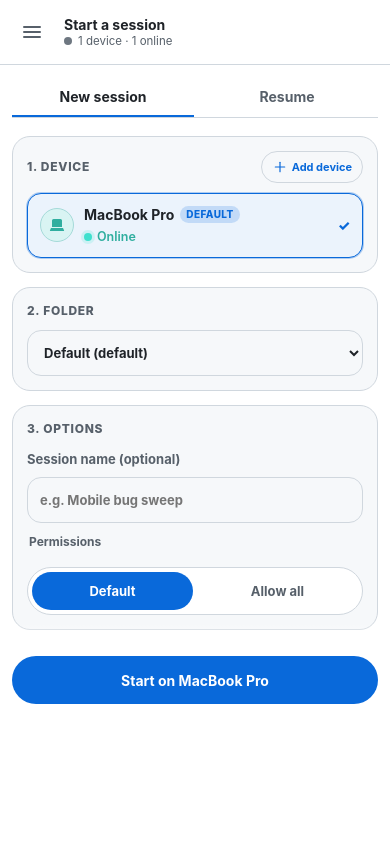
StartSessionScreen — new and resume are two shapes of one flow › opens on New, and swaps only the middle step when you switch to Resume
Expected: the heading "2. Folder" is shown, x1=27 y1=303 x2=94 y2=318
Expected: the field labelled "Session name (optional)" is shown, x1=27 y1=477 x2=363 y2=523
Click the tab "Resume": (287, 97) x1=196 y1=77 x2=378 y2=117
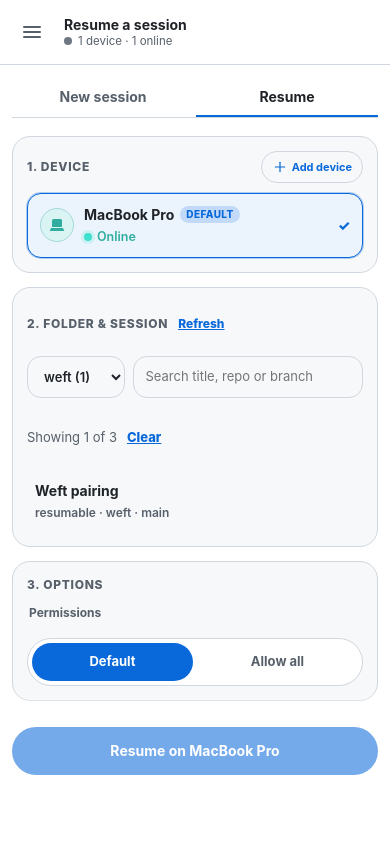
Expected: the element named "device" is shown, x1=27 y1=193 x2=363 y2=258
Expected: the heading "2. Folder & session Refresh" is shown, x1=27 y1=302 x2=226 y2=346
Expected: the text labelled "Session name" is gone
